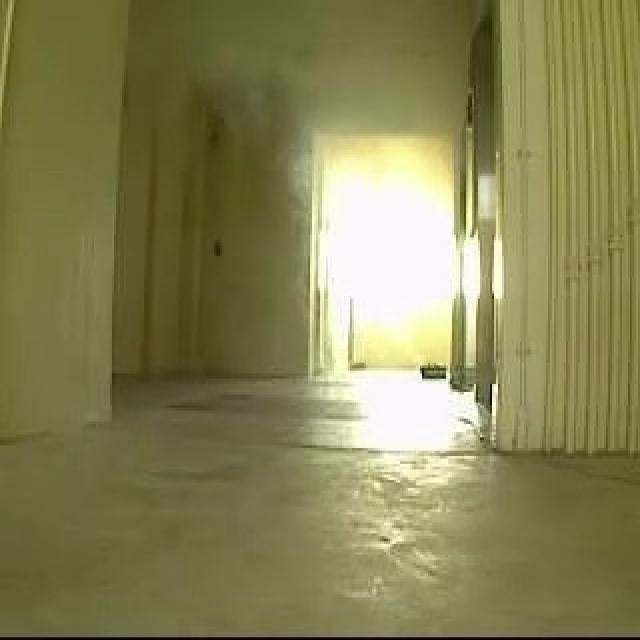smoke: (162, 2, 324, 168)
